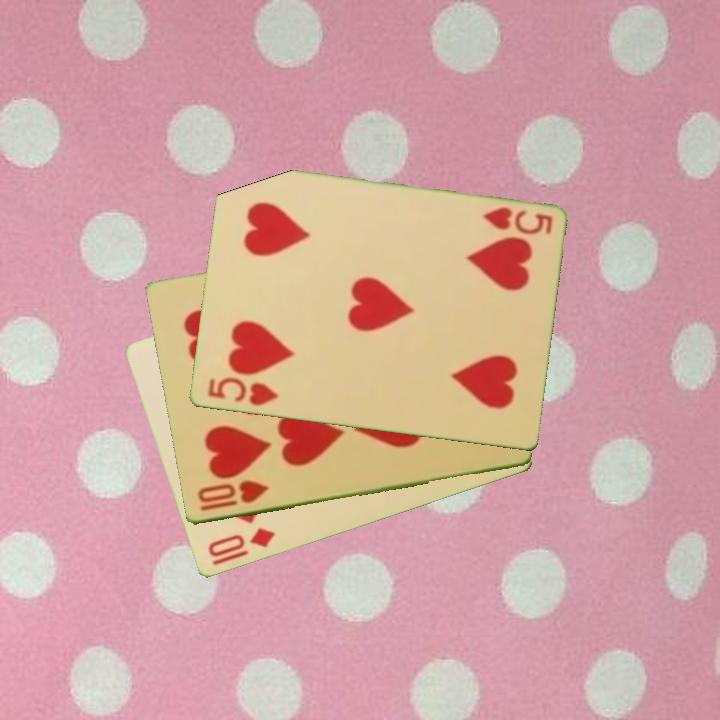10d: (204, 524, 278, 569)
10h: (193, 477, 271, 515)
5h: (204, 374, 281, 409), (479, 204, 555, 238)
